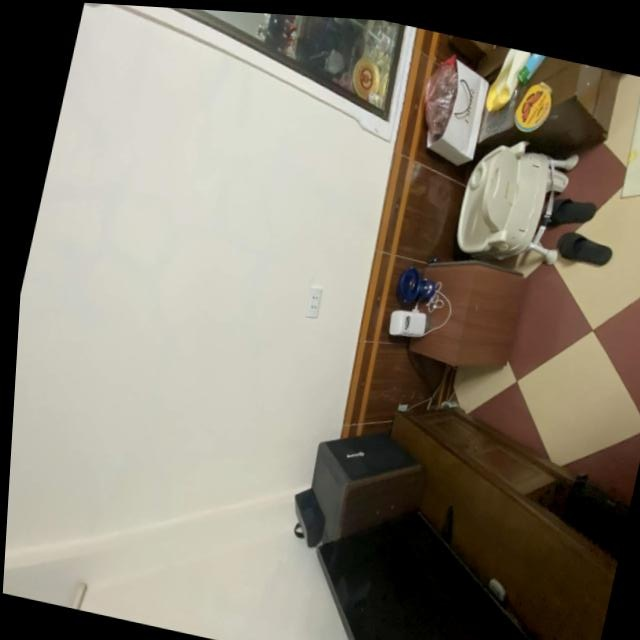outlet: (303, 286, 324, 321)
